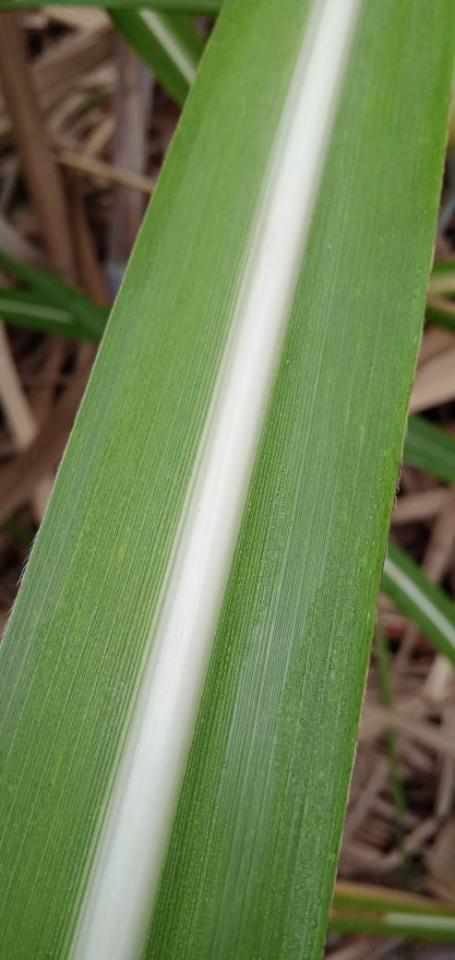Healthy: (0, 0, 454, 959)
RedRot: (332, 908, 390, 924)
